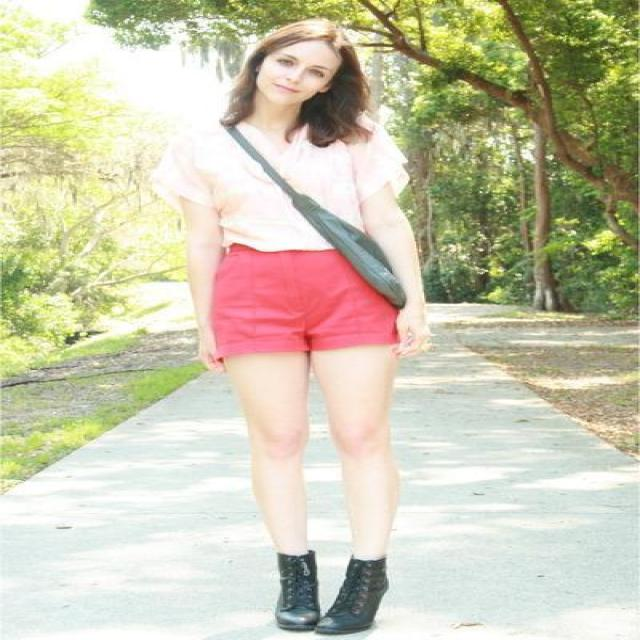bag: (262, 166, 312, 207)
shirt: (179, 104, 410, 250)
shoe: (275, 550, 387, 635)
shorts: (210, 243, 398, 365)
